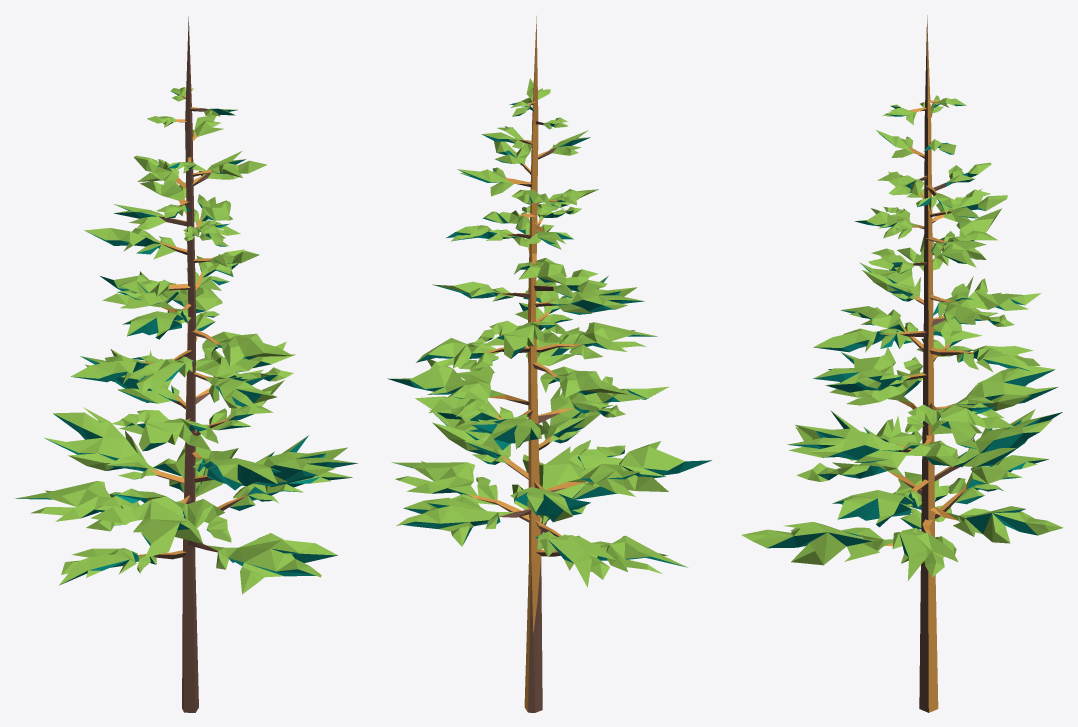
The model's file is tree1.glb.
3 views of the same model, side by side, from view 1: azimuth 30°, elevation 25°; view 2: azimuth 150°, elevation 25°; view 3: azimuth 270°, elevation 25° (orthographic).
Visible parts, largest first — view 1: group819735516; view 2: group819735516; view 3: group819735516.
Boxes of the visible parts, <box> form: group819735516: <box>14,16,357,712</box>; group819735516: <box>387,16,711,712</box>; group819735516: <box>741,15,1063,712</box>.
Size of the model in its own units: 2.05 by 4.6 by 1.94.
